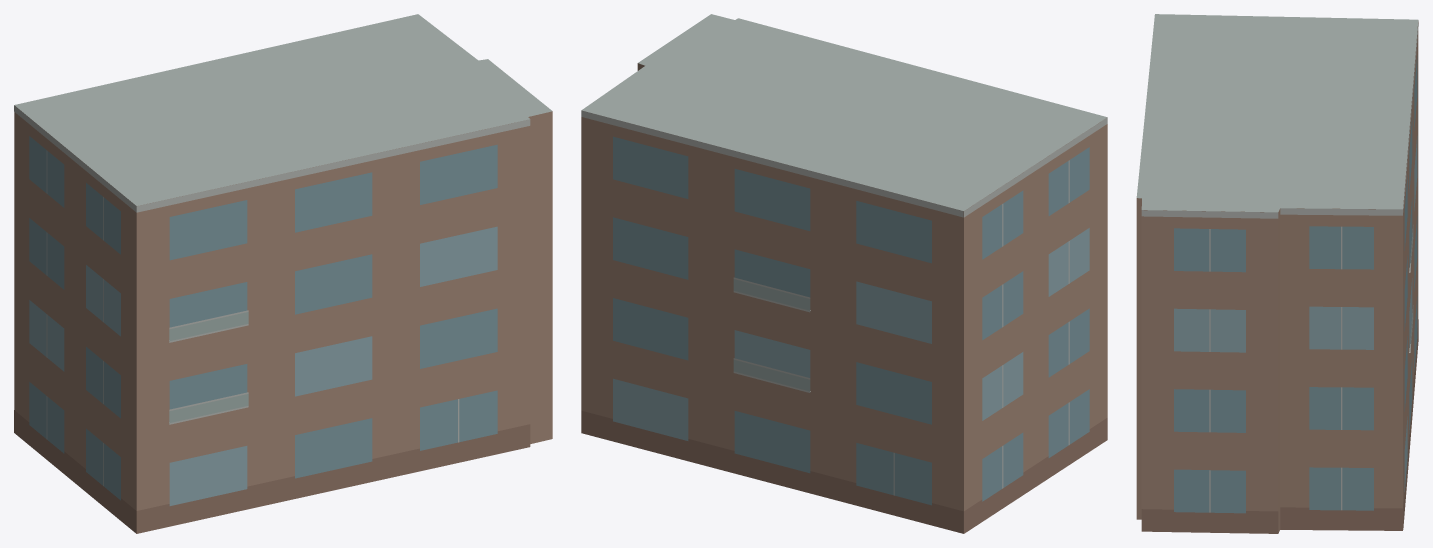
The model's file is survey-upis-33025285.glb.
3 renders of one model, left to right at view 1: azimuth 30°, elevation 25°; view 2: azimuth 150°, elevation 25°; view 3: azimuth 270°, elevation 25°, orthographic.
Visible parts, largest first — view 1: survey-upis-33025285.tmp; view 2: survey-upis-33025285.tmp; view 3: survey-upis-33025285.tmp.
Part boxes in pixels (left/top/right/bottom): survey-upis-33025285.tmp: left=14, top=14, right=552, bottom=533; survey-upis-33025285.tmp: left=581, top=14, right=1107, bottom=533; survey-upis-33025285.tmp: left=1136, top=14, right=1418, bottom=533.
Bounding box in the file's own units: 16.15 × 12.2 × 9.7.
